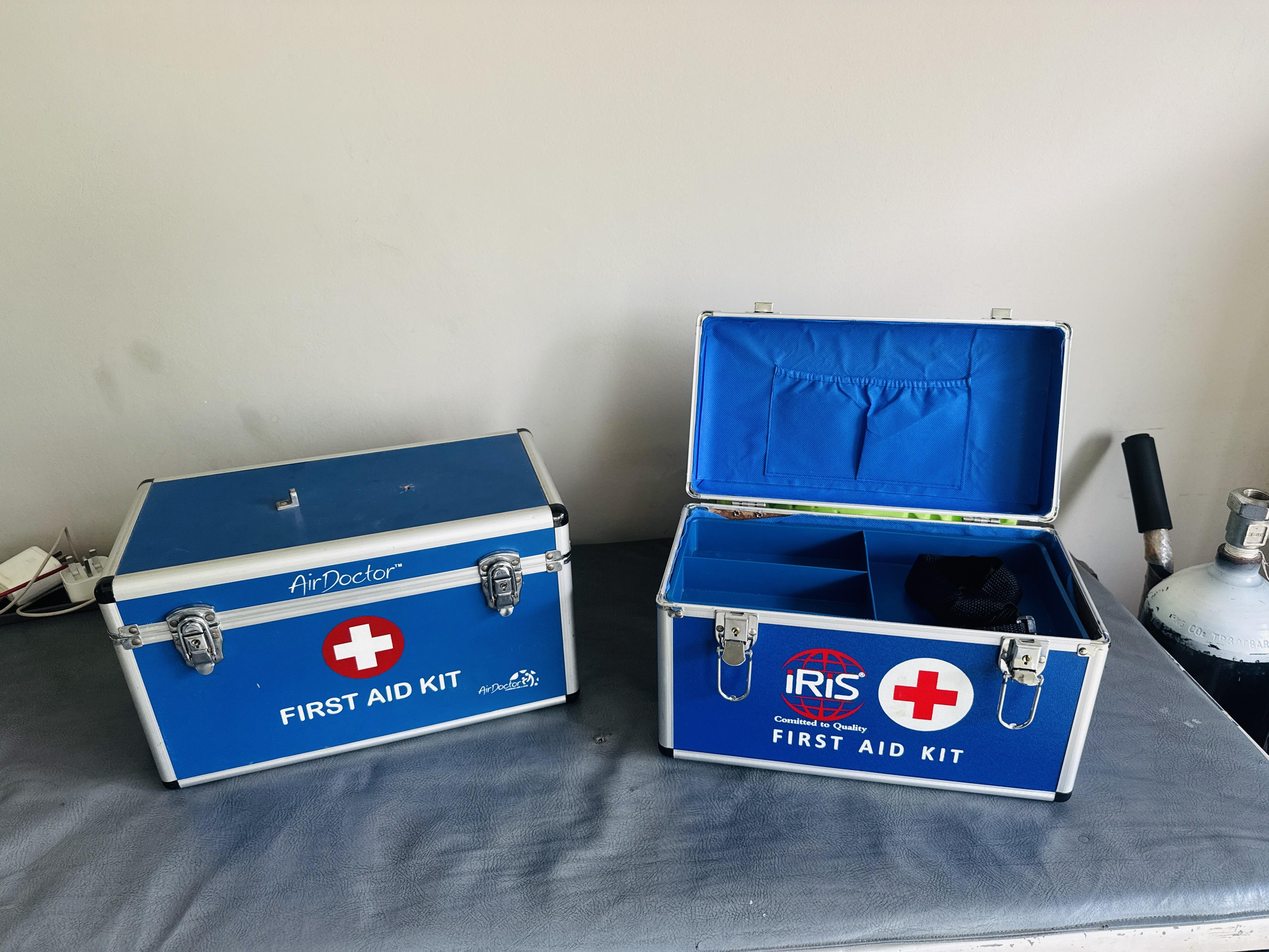FirstAidBox: (635, 278, 1146, 824), (84, 418, 599, 802)
